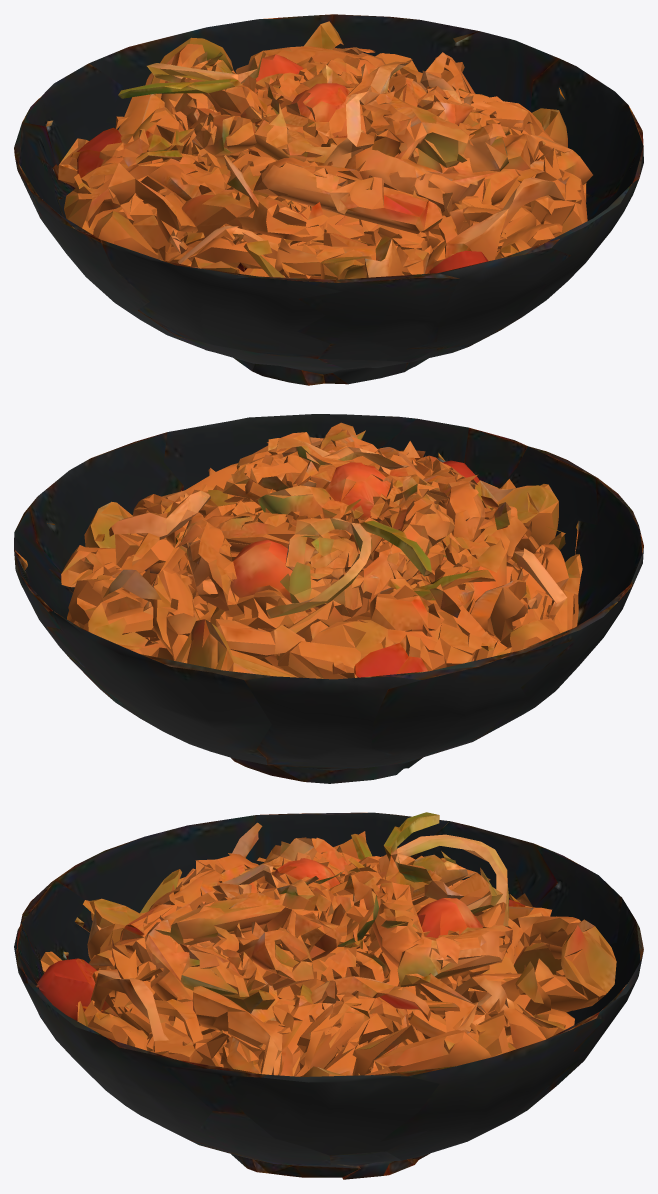
The model's file is arrabbiata.glb.
3 views of the same model, one above another, from view 1: azimuth 30°, elevation 25°; view 2: azimuth 150°, elevation 25°; view 3: azimuth 270°, elevation 25° (orthographic).
Parts seen in each view (by area): view 1: mesh_node; view 2: mesh_node; view 3: mesh_node.
Boxes of the visible parts, x1,y1,x2,y2 form: mesh_node: (14, 14, 643, 385); mesh_node: (14, 414, 643, 783); mesh_node: (14, 812, 643, 1179).
Bounding box in the file's own units: 0.26 × 0.1239 × 0.2595.
Materials: 1 (1 with a texture image).
